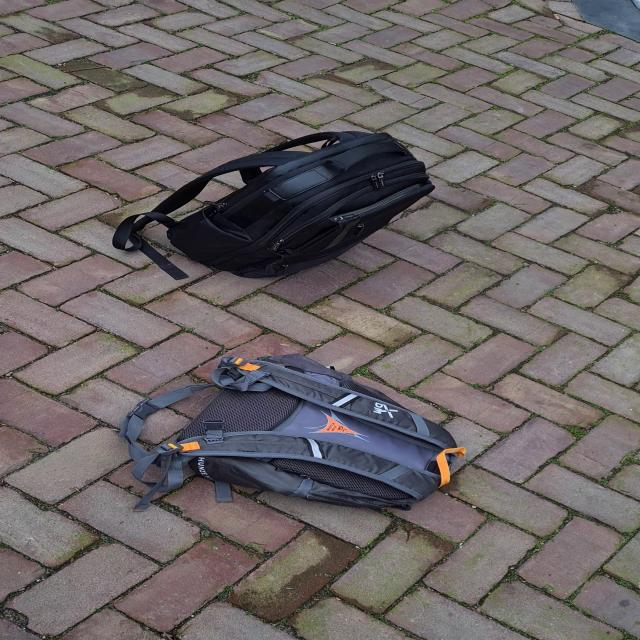backpack: (112, 351, 467, 519), (164, 125, 443, 288)
